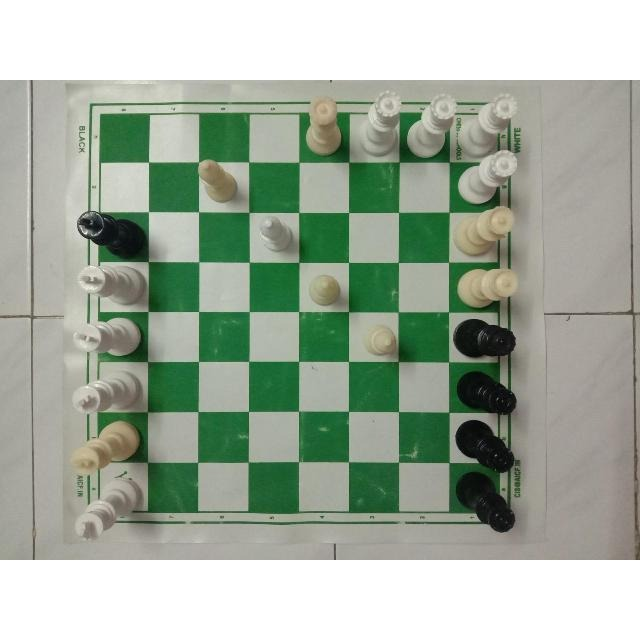black-king: (75, 210, 151, 262)
black-queen: (451, 468, 517, 535), (453, 415, 519, 475), (452, 368, 520, 418), (448, 316, 518, 362)
white-bishop: (197, 159, 241, 205), (254, 214, 296, 256), (359, 320, 399, 359), (307, 270, 343, 307)
white-king: (72, 476, 143, 543), (67, 418, 144, 477), (70, 366, 148, 415), (76, 263, 148, 309), (70, 315, 146, 357)
white-queen: (459, 89, 520, 158), (447, 203, 519, 260), (354, 86, 404, 161), (408, 88, 458, 162), (449, 263, 521, 313), (298, 92, 346, 159), (460, 149, 518, 204)
